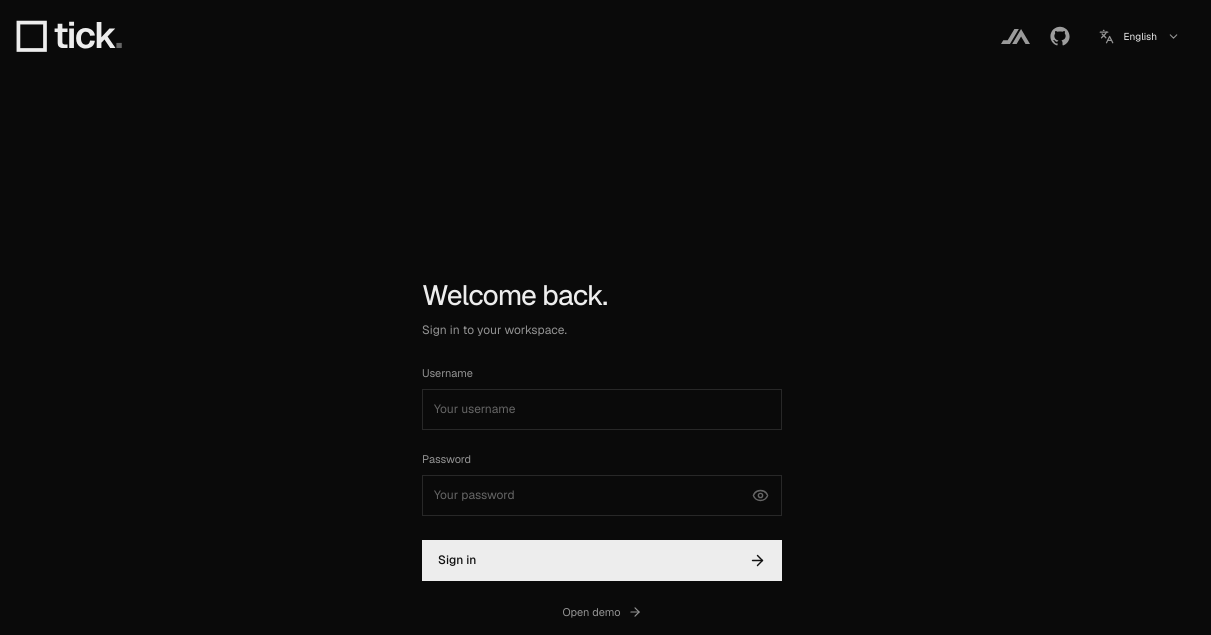
Test: language selection translates the interface and persists the choice
Expected: the heading "Welcome back." is shown, [422,277,607,313]
Press ArrowDown in the button with aria-label "Language", box [1090,21,1189,51]
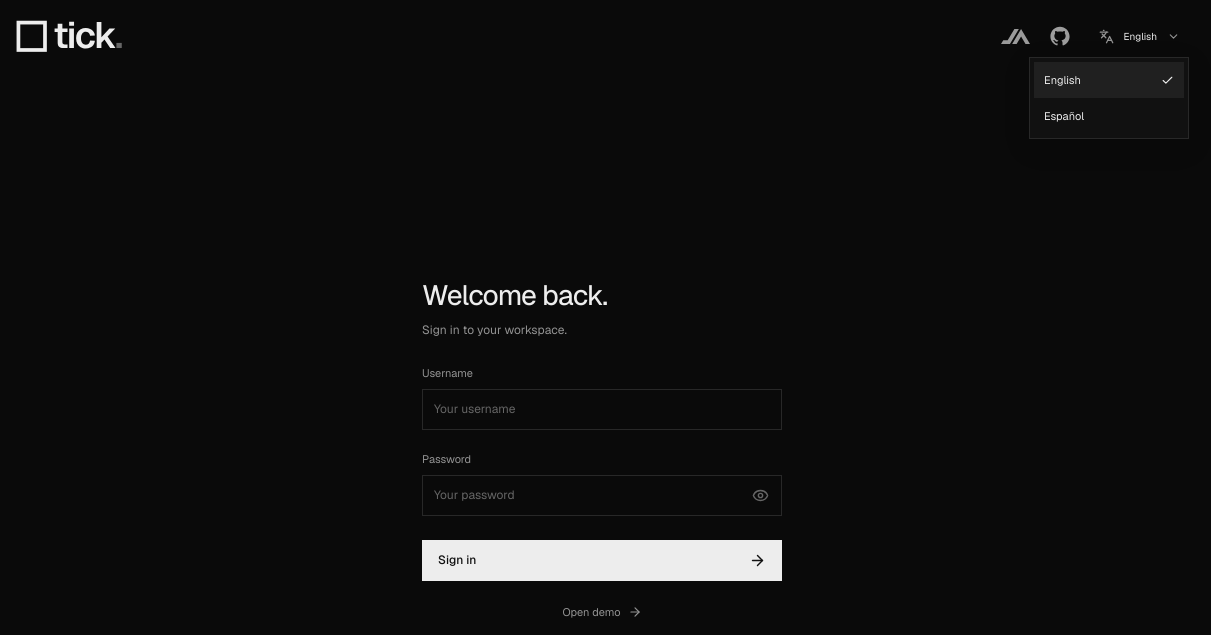
Click the menu item "Español".
click(1064, 116)  # box [1044,109,1084,123]
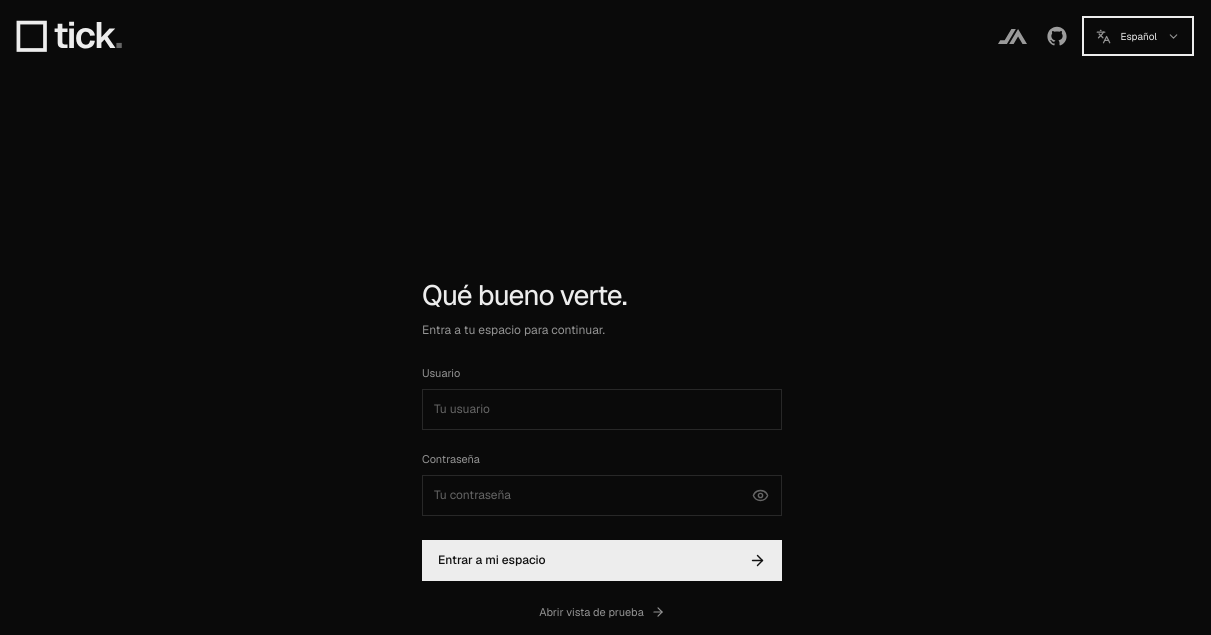
Now the heading "Qué bueno verte." is shown, box [422,277,627,313]
Now the button "Entrar a mi espacio" is shown, box [422,540,782,581]
Press ArrowDown in the button with aria-label "Idioma", box [1087,21,1189,51]
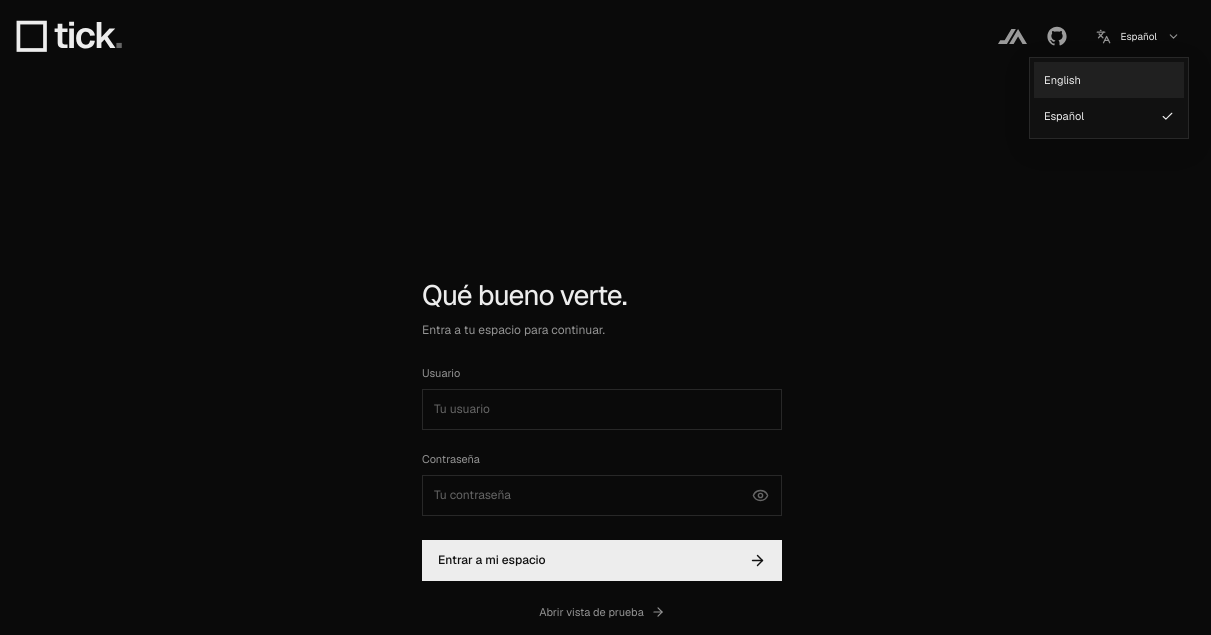
Click the menu item "English".
click(1109, 80)  # box [1034,62,1184,98]
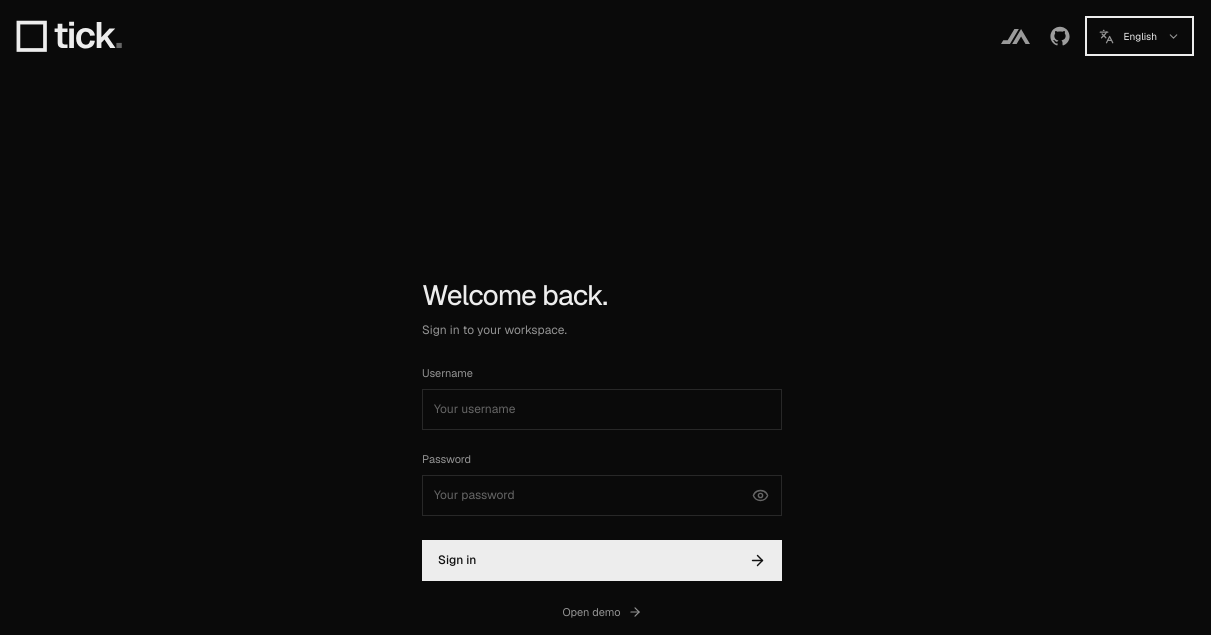
Now the heading "Welcome back." is shown, box [422,277,607,313]
